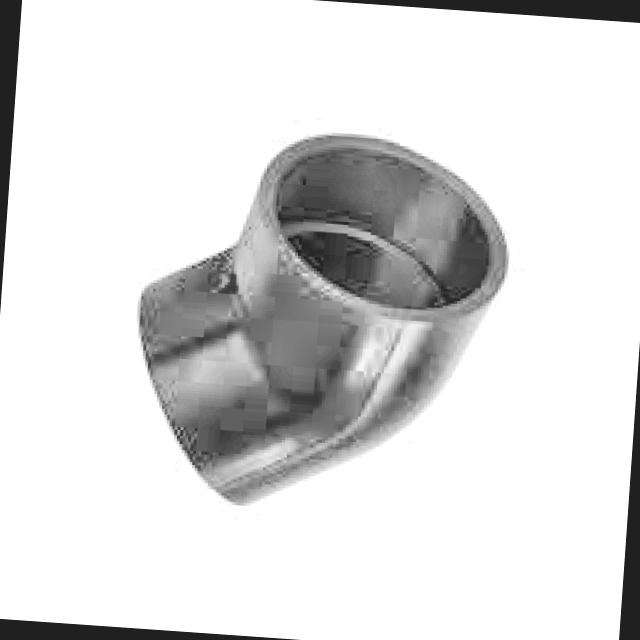ELBOW45: (136, 130, 510, 507)
